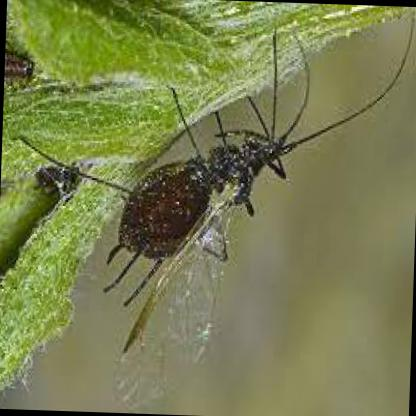uroleucon compositae: (108, 34, 407, 405)
